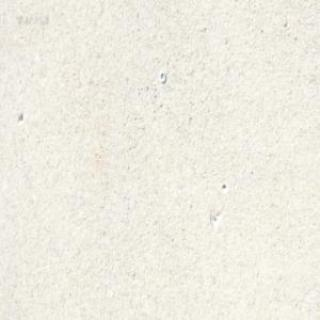Washertrack_idkeyframe: (158, 70, 165, 83)
